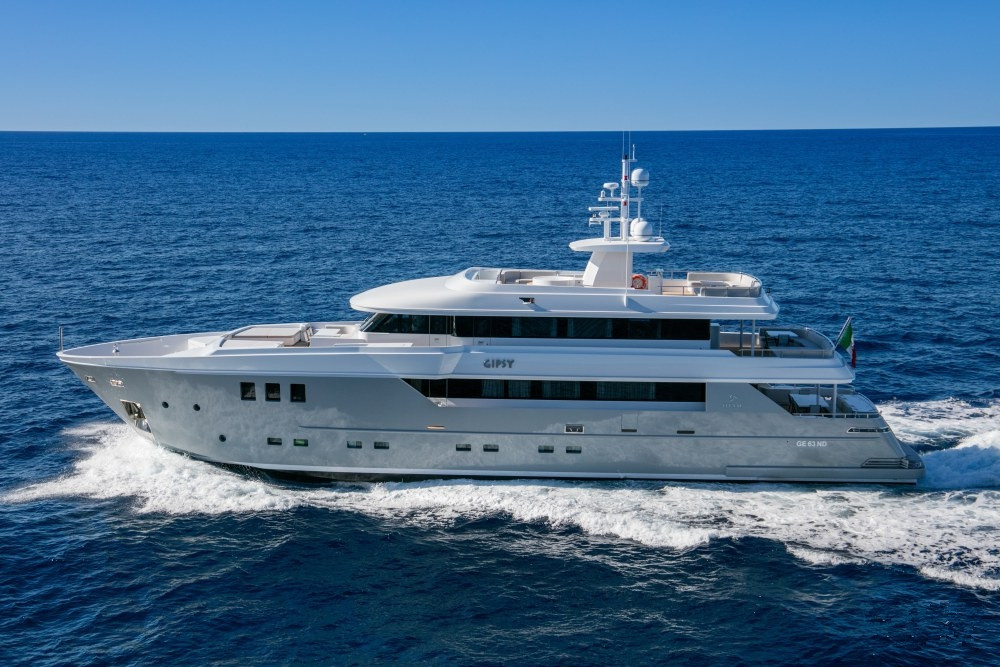yacht: (51, 143, 922, 486)
